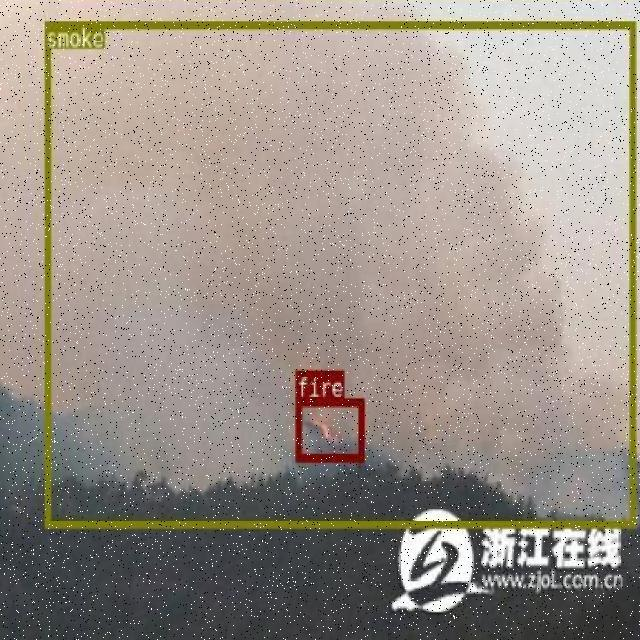Smoke: (40, 14, 625, 520)
